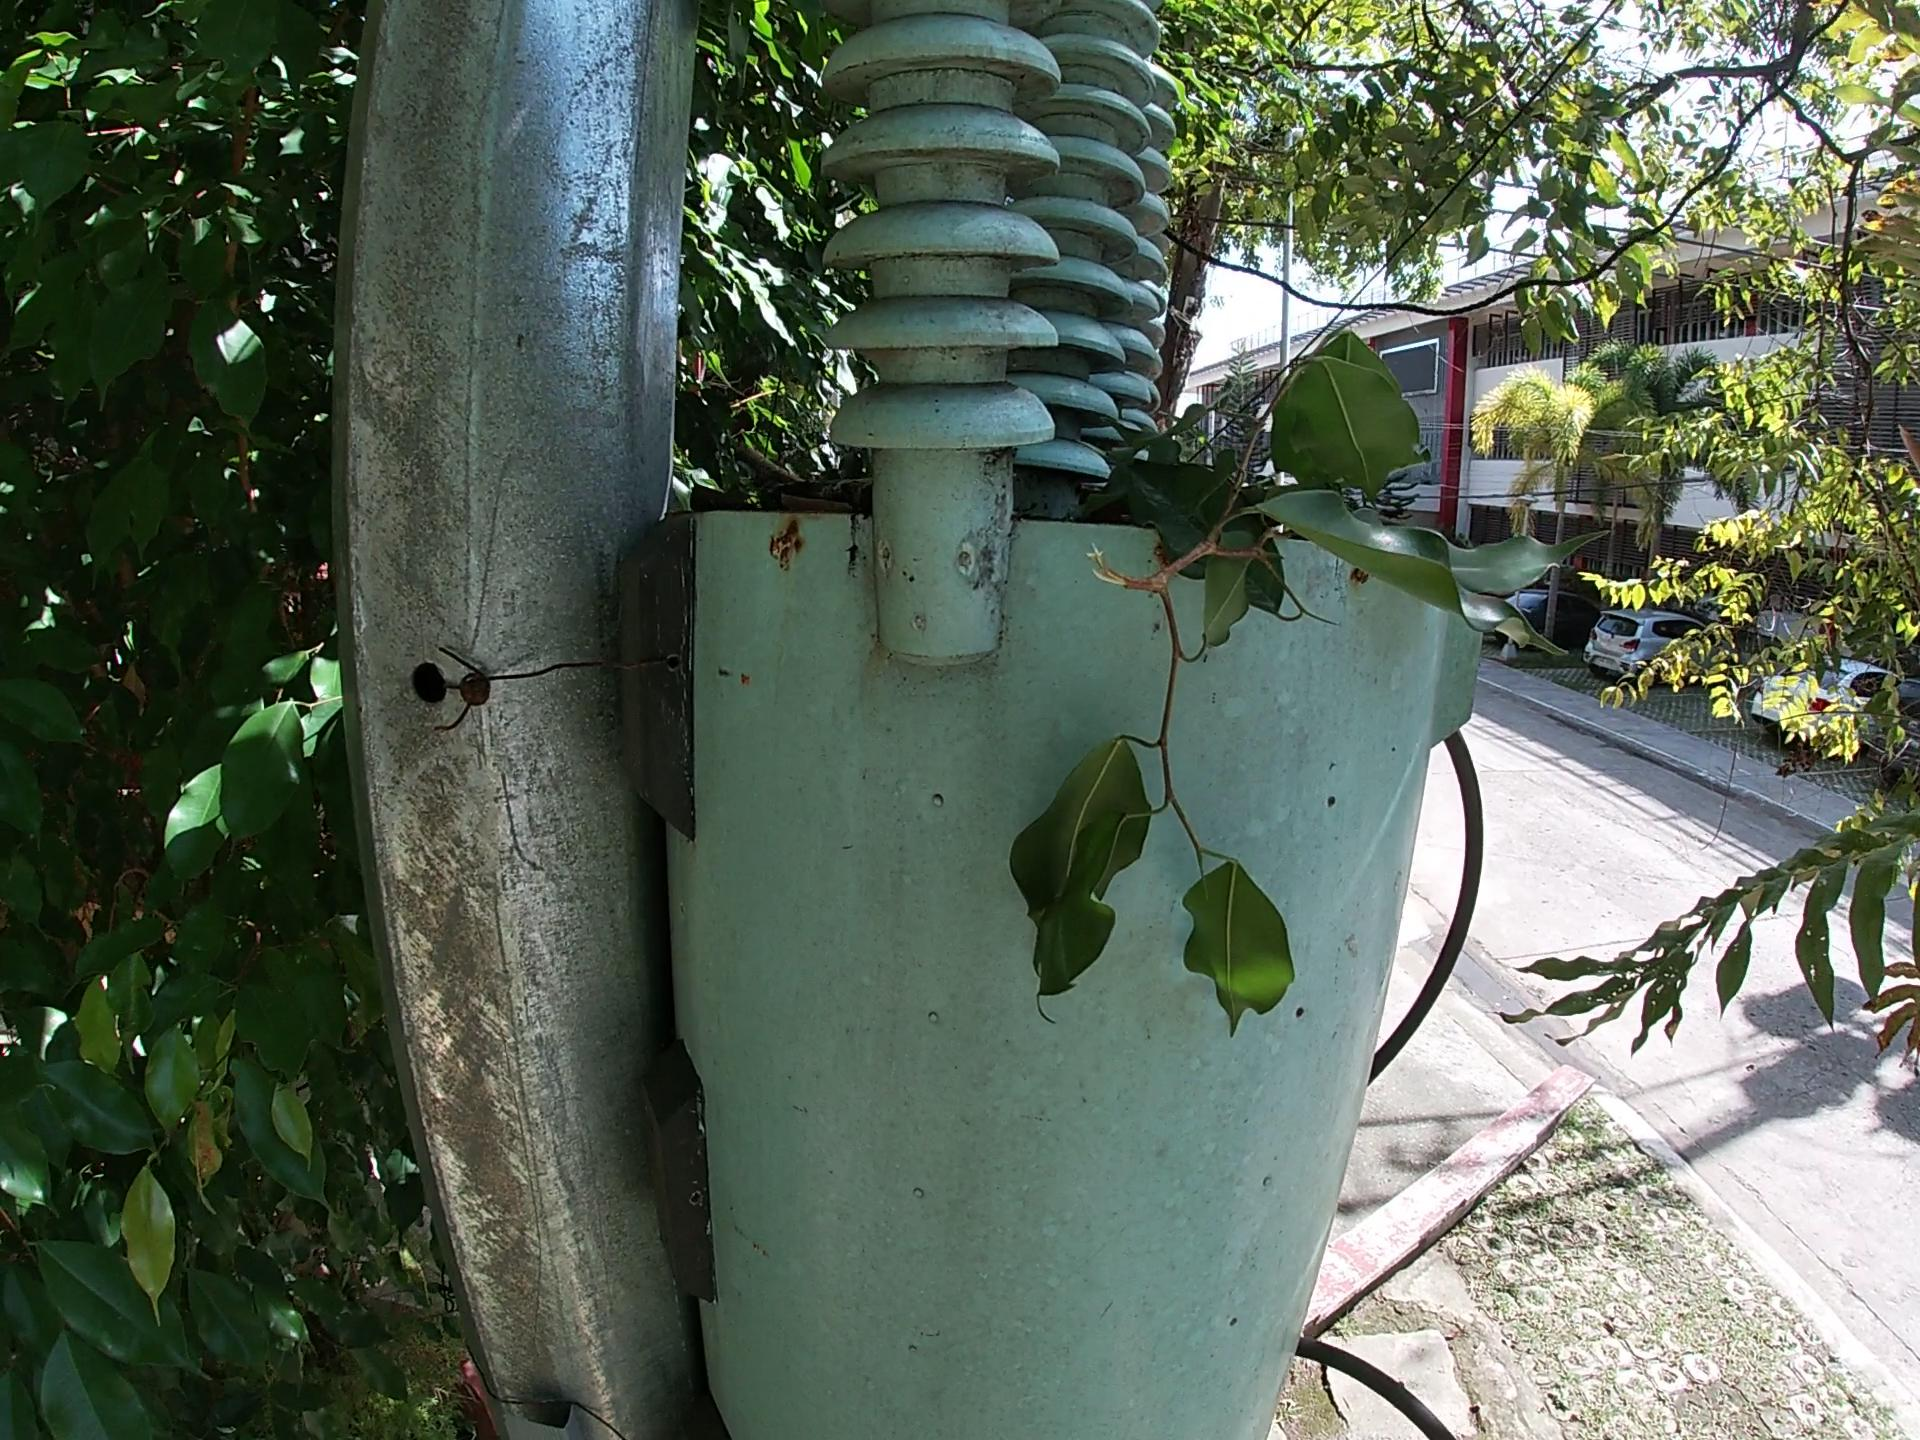branch with leaves: (906, 315, 1624, 1054)
leaf: (680, 470, 763, 517)
tree branch: (723, 413, 831, 490)
